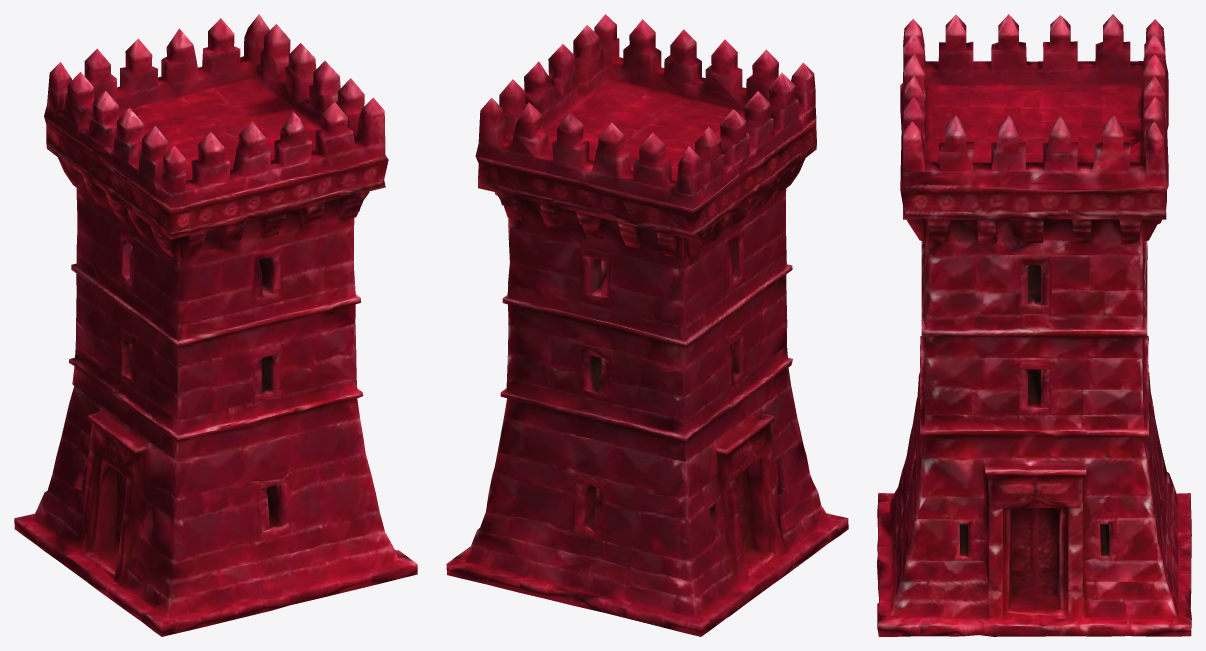
Rendered from castle_tower_medium_diamond_red.glb.
3 views of the same model, side by side, from view 1: azimuth 30°, elevation 25°; view 2: azimuth 150°, elevation 25°; view 3: azimuth 270°, elevation 25° (orthographic). The views are drawn at different scales.
Visible parts, largest first — view 1: tripo_node_f74a6873-0aa4-44c0-b1a2-0f1e77261948; view 2: tripo_node_f74a6873-0aa4-44c0-b1a2-0f1e77261948; view 3: tripo_node_f74a6873-0aa4-44c0-b1a2-0f1e77261948.
Boxes of the visible parts, x1,y1,x2,y2 form: tripo_node_f74a6873-0aa4-44c0-b1a2-0f1e77261948: [14, 14, 417, 636]; tripo_node_f74a6873-0aa4-44c0-b1a2-0f1e77261948: [446, 14, 848, 636]; tripo_node_f74a6873-0aa4-44c0-b1a2-0f1e77261948: [877, 14, 1191, 636].
Bounding box in the file's own units: 0.5522 × 0.9803 × 0.5525.
Materials: 1 (1 with a texture image).
